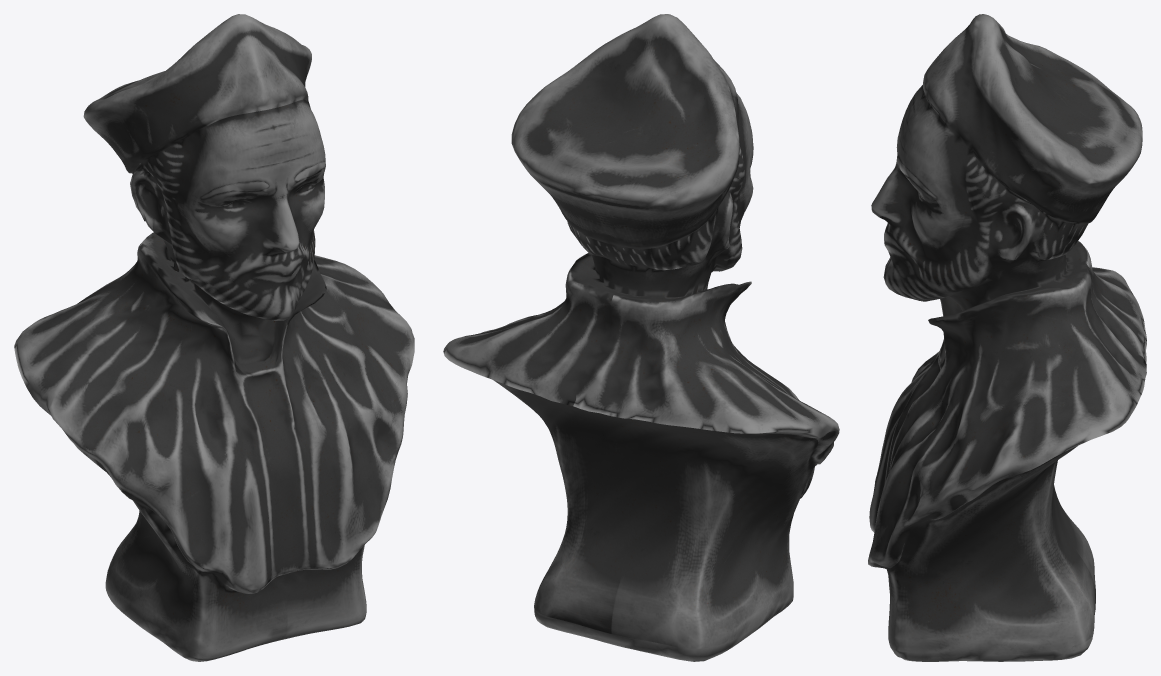
Rendered from ignatius-model.glb.
The picture shows the model from 3 angles, left to right: view 1: azimuth 30°, elevation 25°; view 2: azimuth 150°, elevation 25°; view 3: azimuth 270°, elevation 25°; orthographic projection.
Visible parts, largest first — view 1: StIgnatius1_low; view 2: StIgnatius1_low; view 3: StIgnatius1_low.
Part boxes in pixels (<box>): StIgnatius1_low: <box>14,14,414,661</box>; StIgnatius1_low: <box>443,14,839,661</box>; StIgnatius1_low: <box>868,14,1146,661</box>.
Bounding box in the file's own units: 1.17 × 1.87 × 0.7763.
1 material, 1 textured.
